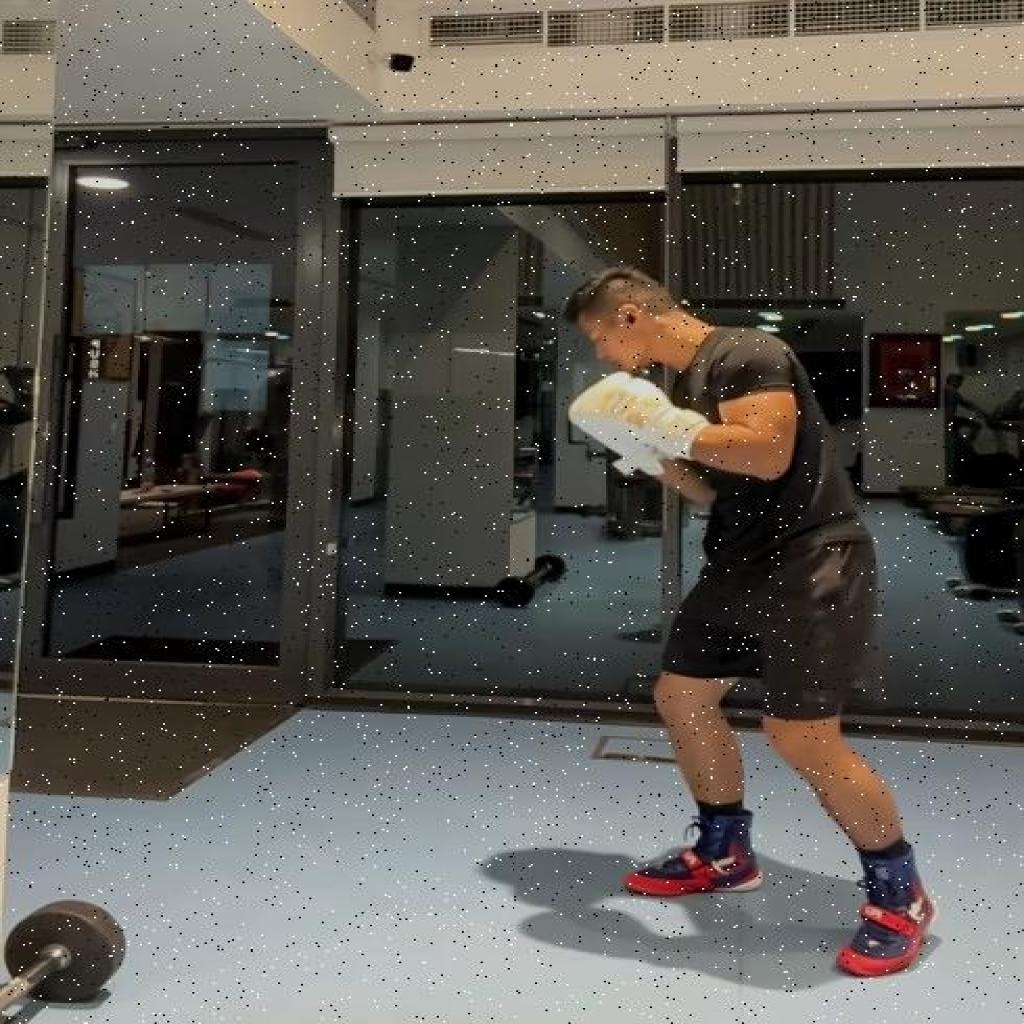no punch: (562, 261, 943, 982)
